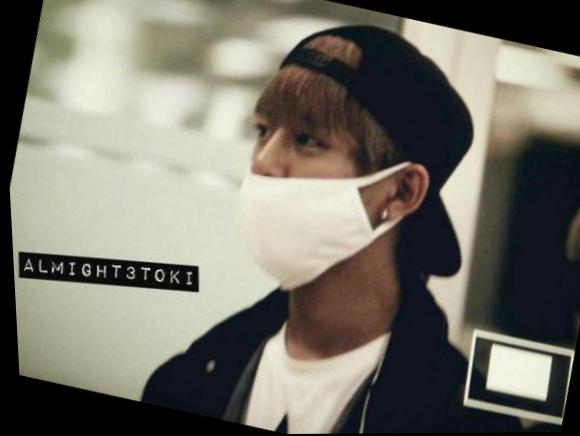WRONG: (220, 106, 400, 293)
